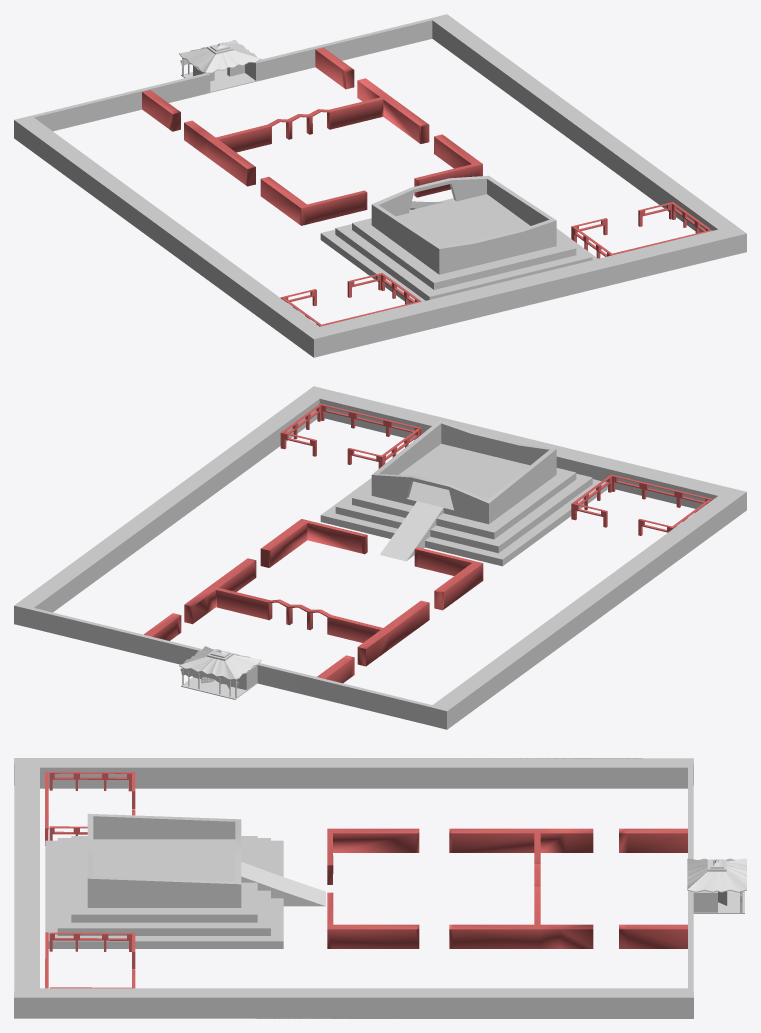
File: aldeareformada_v1_auo1003.fbx
3 views of the same model, one above another, from view 1: azimuth 30°, elevation 25°; view 2: azimuth 150°, elevation 25°; view 3: azimuth 270°, elevation 25° (orthographic). The views are drawn at different scales.
Parts seen in each view (by area): view 1: Cube.006, Muralla_008.001, Cube.004; view 2: Cube.006, Muralla_008.001, Cube.004; view 3: Cube.006, Muralla_008.001, Cube.004.
Part boxes in pixels (x1,y1,x2,y2): Cube.006: [14, 14, 746, 357]; Muralla_008.001: [142, 47, 712, 326]; Cube.004: [179, 39, 443, 209]; Cube.006: [14, 386, 746, 729]; Muralla_008.001: [144, 403, 712, 683]; Cube.004: [179, 501, 443, 699]; Cube.006: [14, 758, 717, 1018]; Muralla_008.001: [45, 771, 687, 988]; Cube.004: [241, 858, 746, 913].
Bounding box in the file's own units: 21771 × 2342 × 28142.
